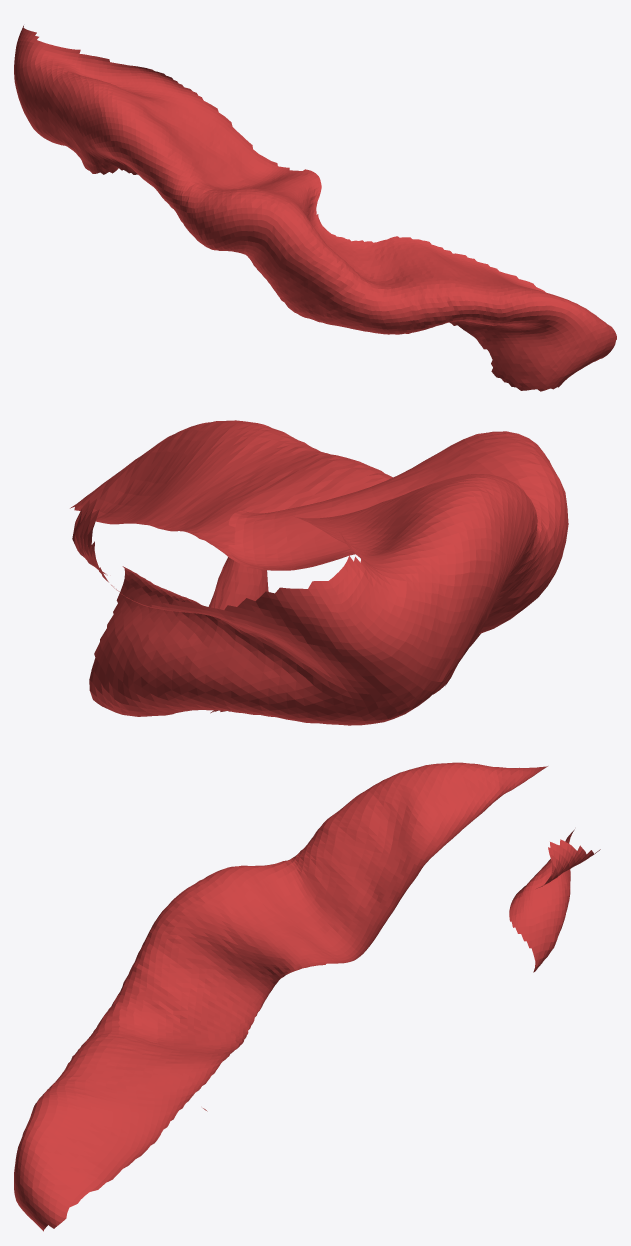
File: lh_postcentral.glb
3 renders of one model, top to bottom at view 1: azimuth 30°, elevation 25°; view 2: azimuth 150°, elevation 25°; view 3: azimuth 270°, elevation 25°, orthographic. The views are drawn at different scales.
Parts seen in each view (by area): view 1: world; view 2: world; view 3: world.
Part boxes in pixels (bbox=[...]): world: bbox=[14, 25, 616, 391]; world: bbox=[70, 420, 568, 725]; world: bbox=[14, 762, 600, 1231].
Bounding box in the file's own units: 62.39 × 40.14 × 72.37.
